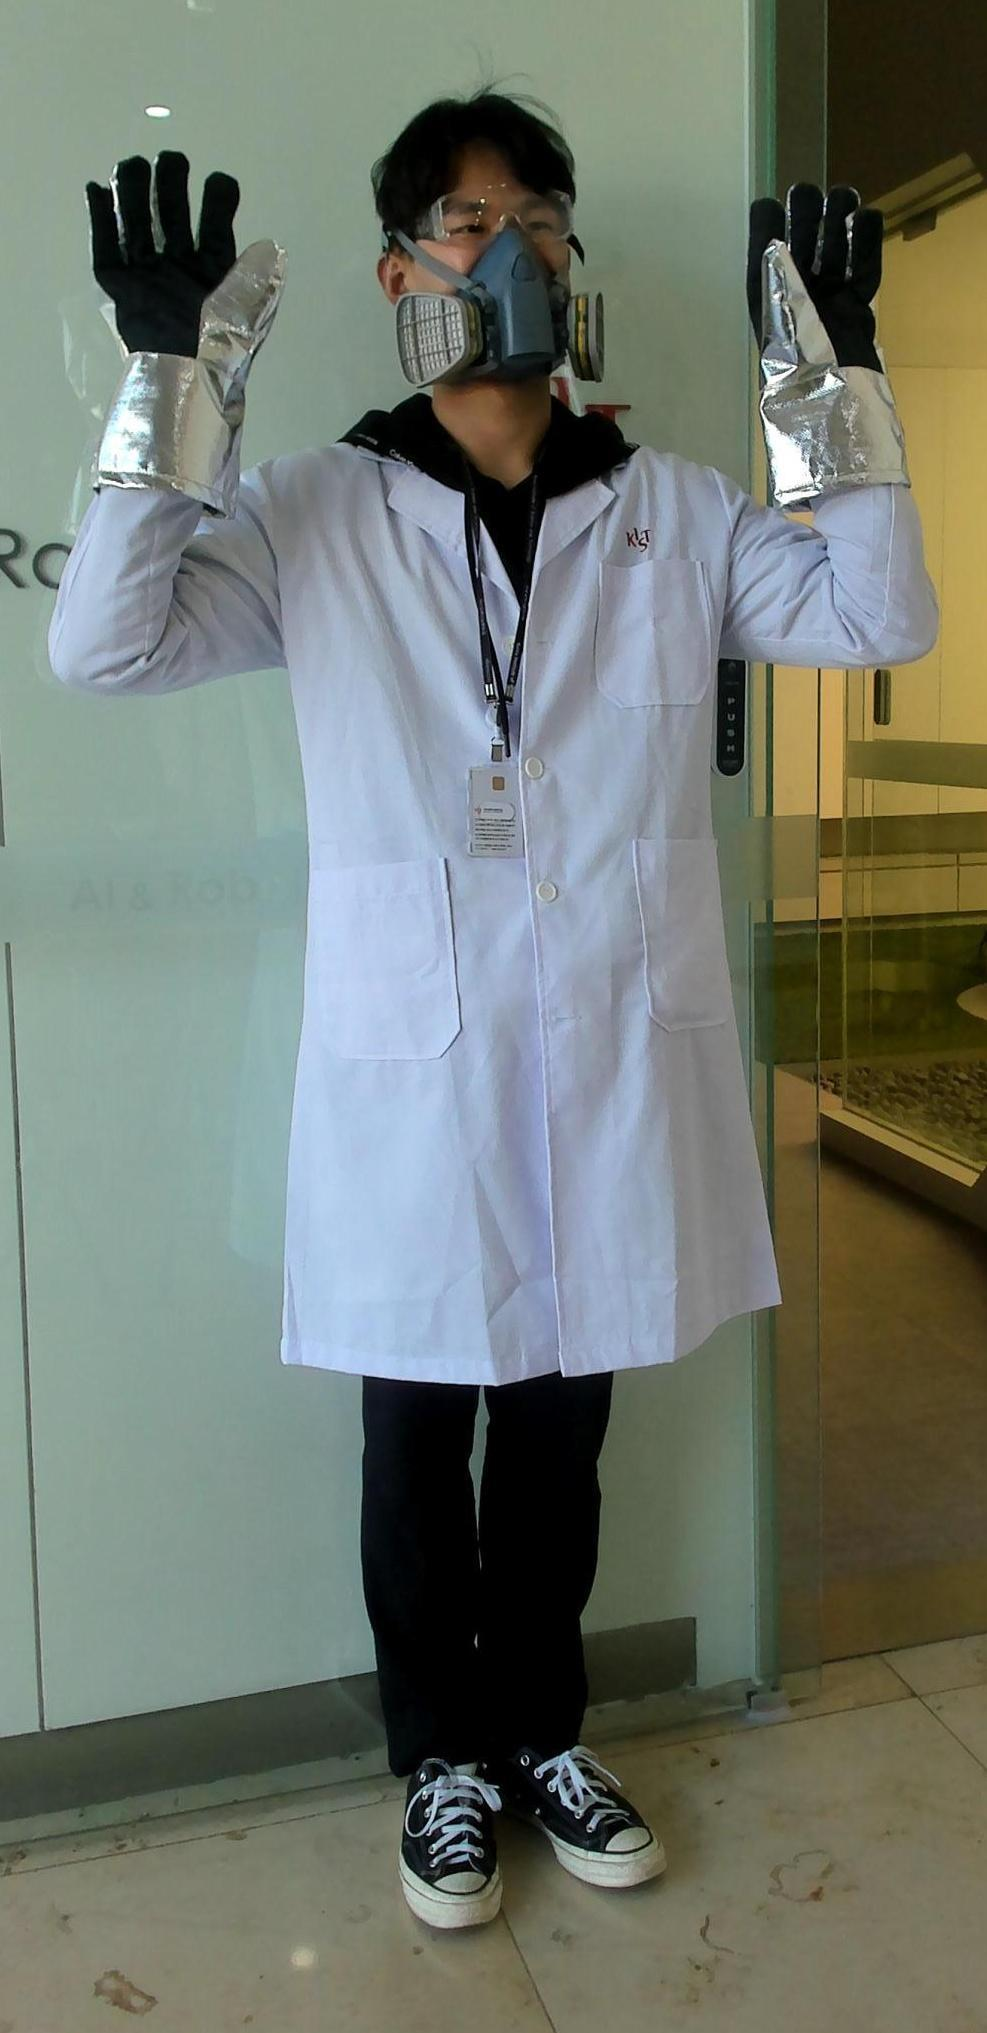lab_coat: (265, 471, 751, 1363)
